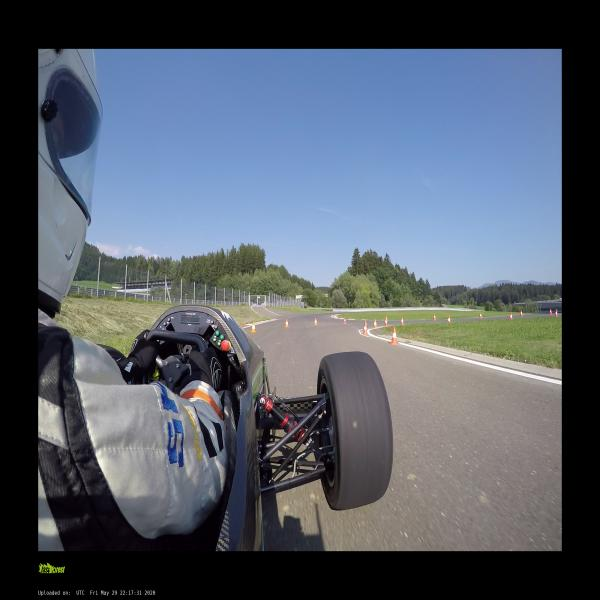orange_cone: (390, 326, 398, 344), (362, 320, 368, 335), (251, 322, 256, 332), (373, 319, 377, 328), (285, 319, 289, 327), (314, 318, 318, 325), (385, 318, 388, 327), (401, 317, 404, 325), (479, 312, 482, 318), (433, 314, 436, 320), (385, 315, 387, 324), (510, 312, 512, 320), (448, 315, 450, 322), (556, 310, 558, 317), (520, 310, 522, 316), (344, 318, 346, 324), (550, 308, 552, 314)
